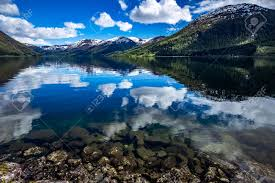lake: (10, 63, 256, 164)
mountain: (179, 7, 275, 61)
sky: (6, 2, 190, 41)
stone: (13, 130, 227, 183)
